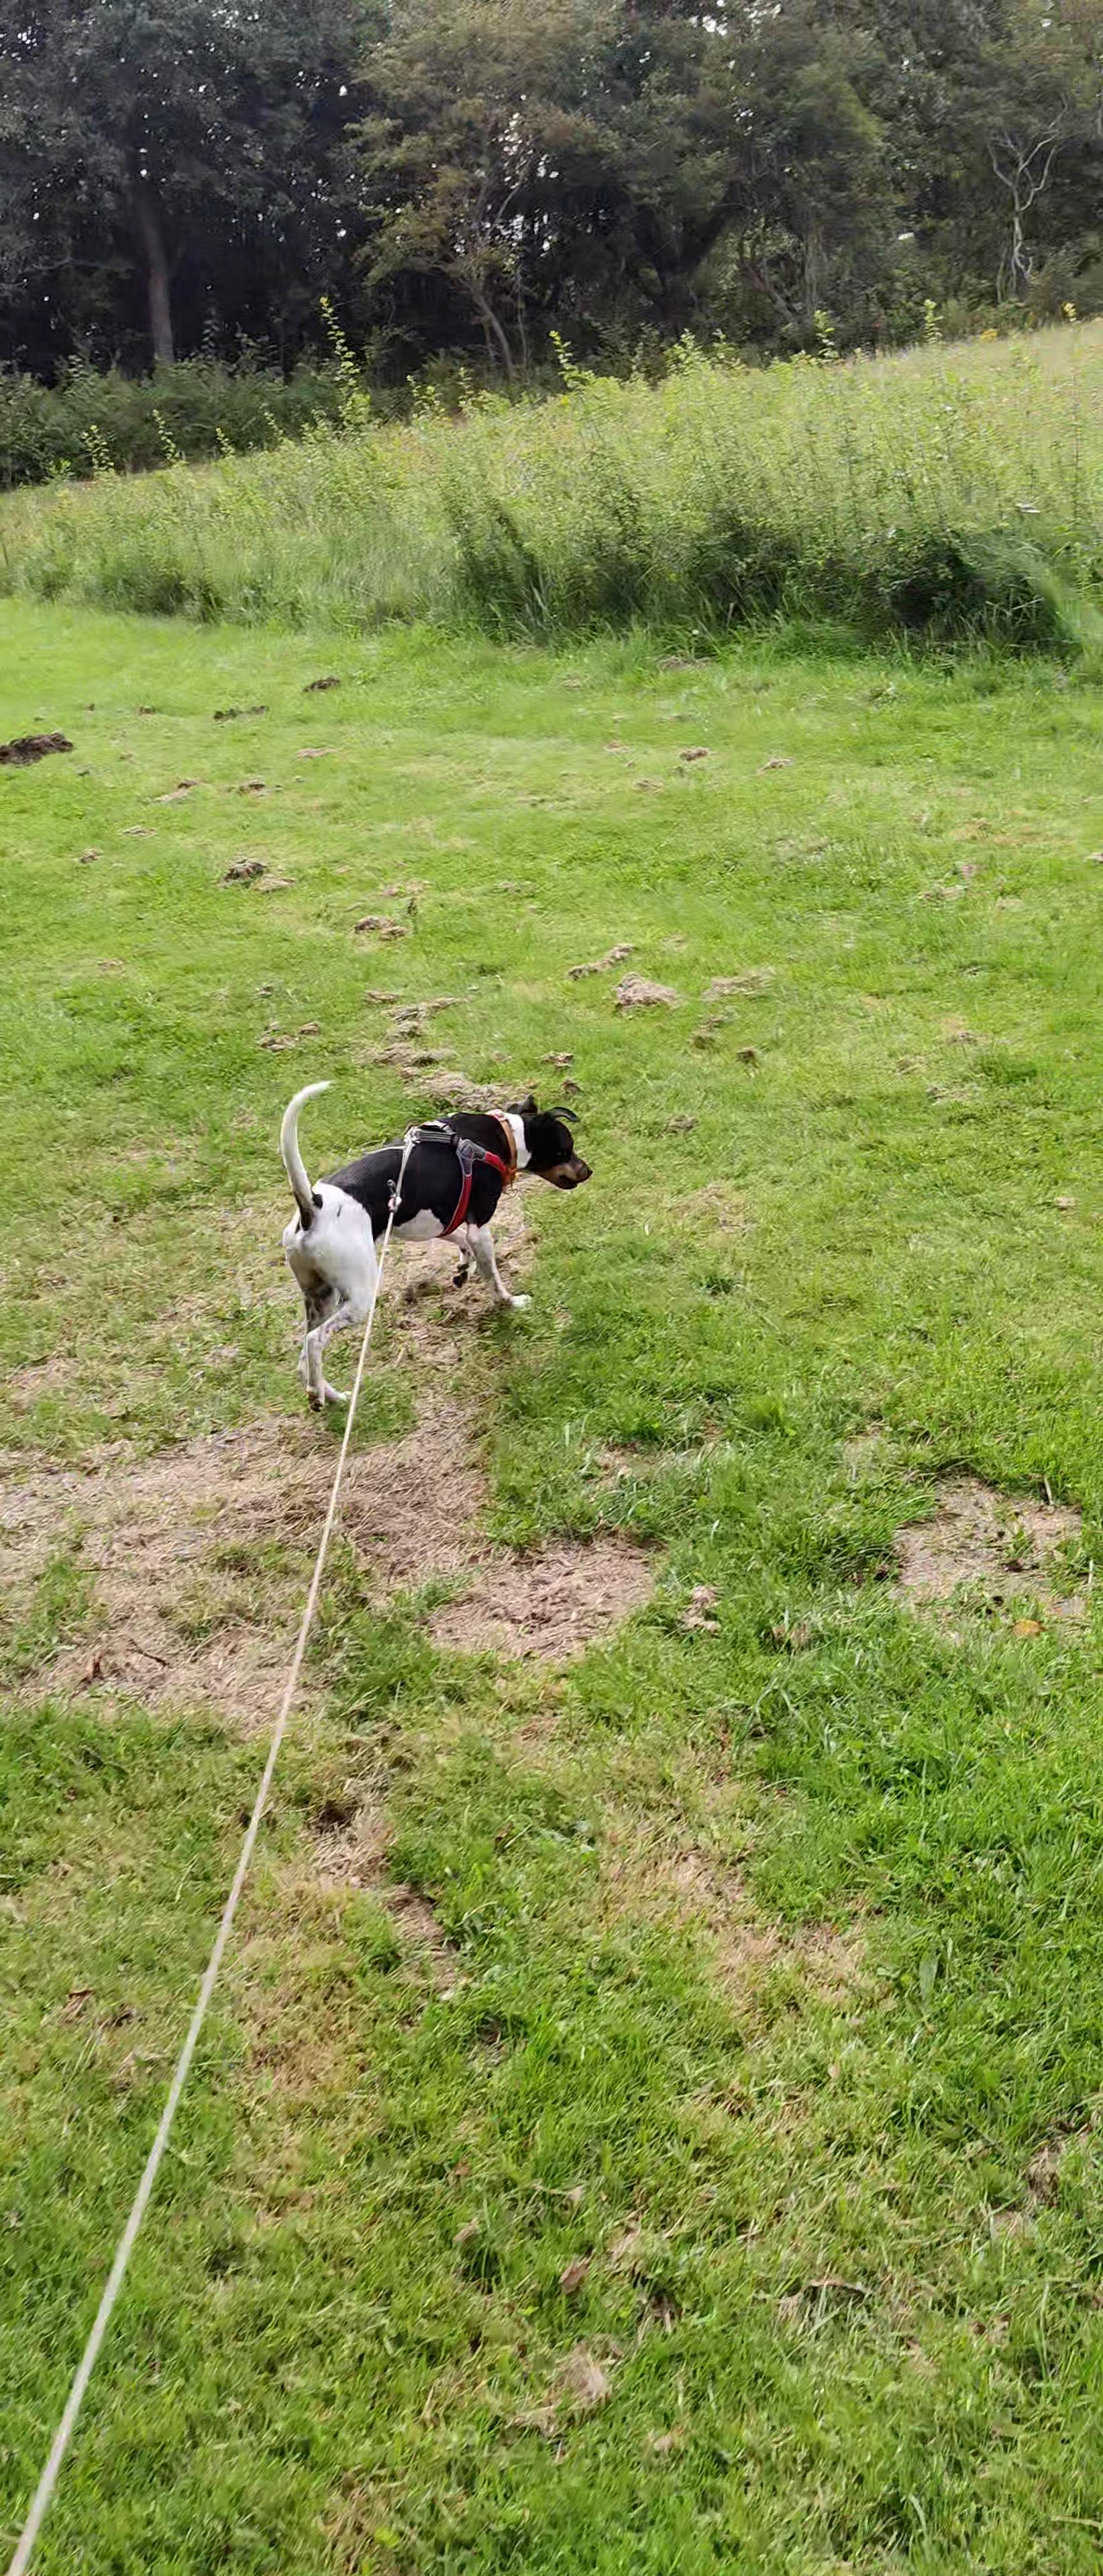Dog: (278, 1076, 593, 1413)
